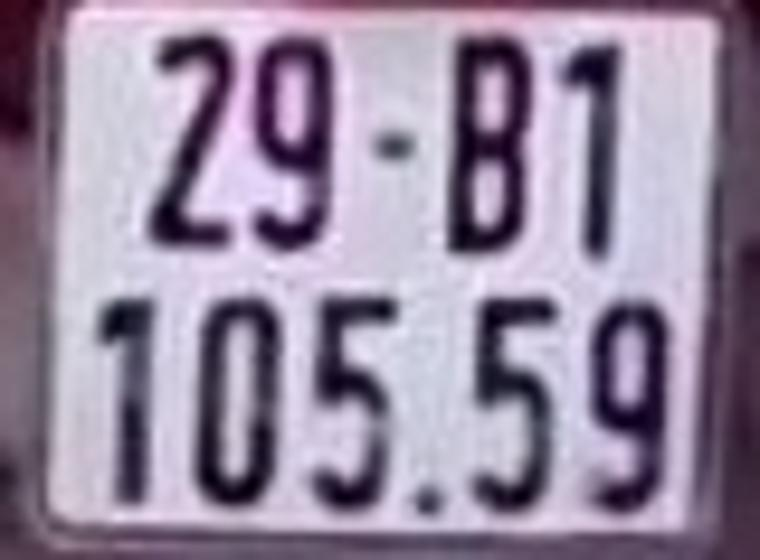-: (370, 127, 414, 162)
.: (406, 485, 446, 519)
0: (196, 296, 280, 502)
1: (557, 42, 617, 259), (98, 296, 158, 505)
2: (150, 30, 231, 251)
5: (305, 292, 394, 517), (468, 296, 554, 512)
9: (586, 304, 673, 508), (249, 37, 329, 246)
B: (446, 31, 529, 256)
